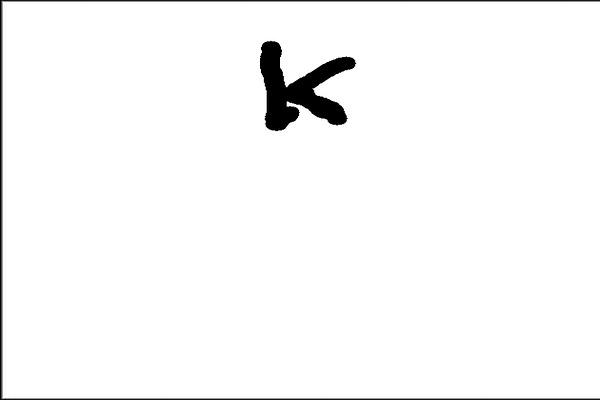K: (252, 32, 364, 137)
